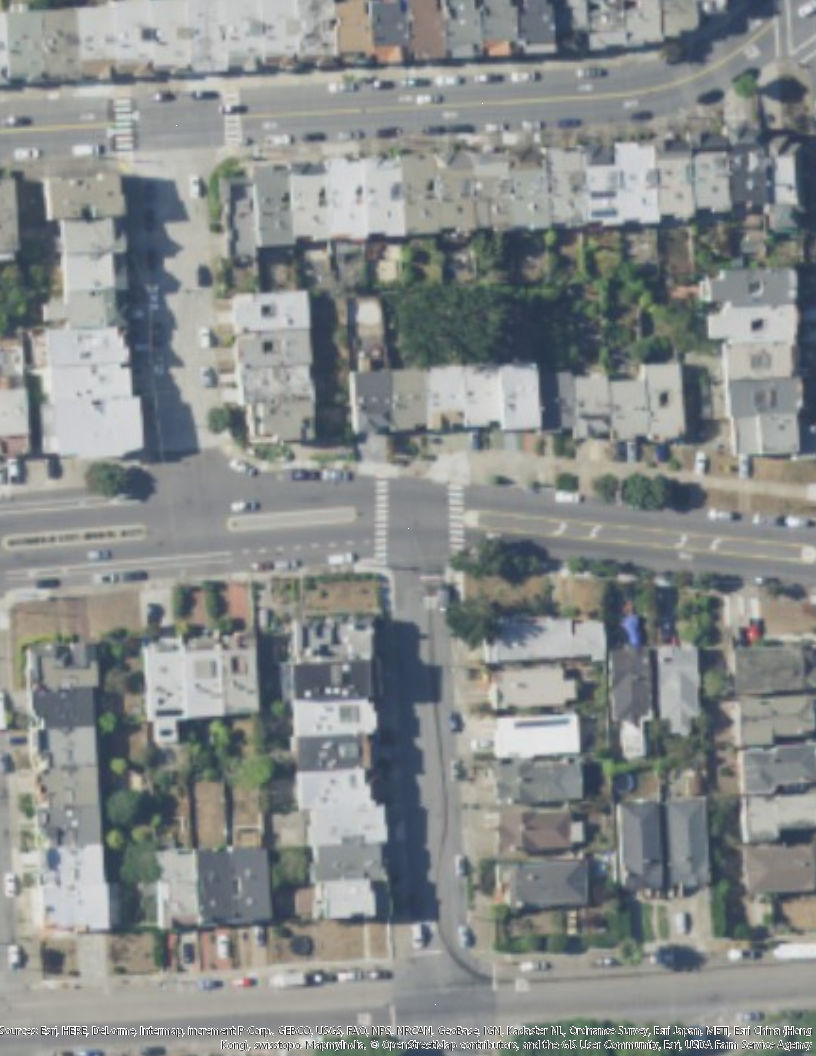zebracross: (109, 95, 136, 156), (373, 477, 389, 562), (447, 484, 466, 554), (220, 89, 243, 142)
